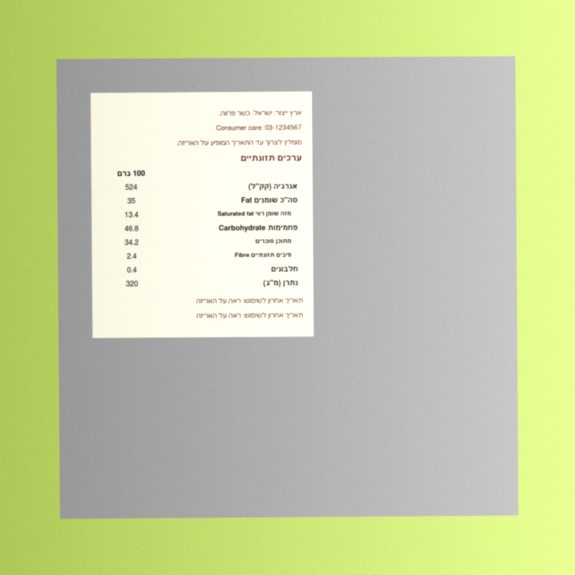carbs: (124, 224, 139, 233)
energy: (124, 183, 138, 192)
fat: (126, 197, 136, 206)
protein: (126, 266, 138, 275)
